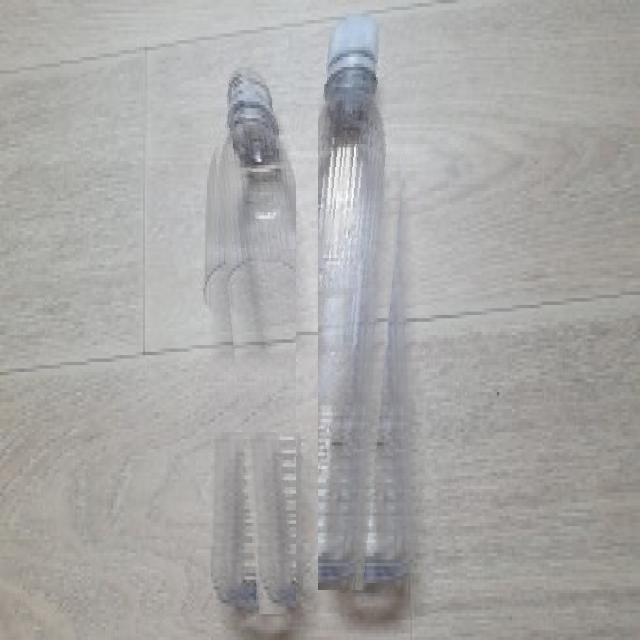plastic bottle: (318, 16, 418, 590), (207, 70, 296, 614)
